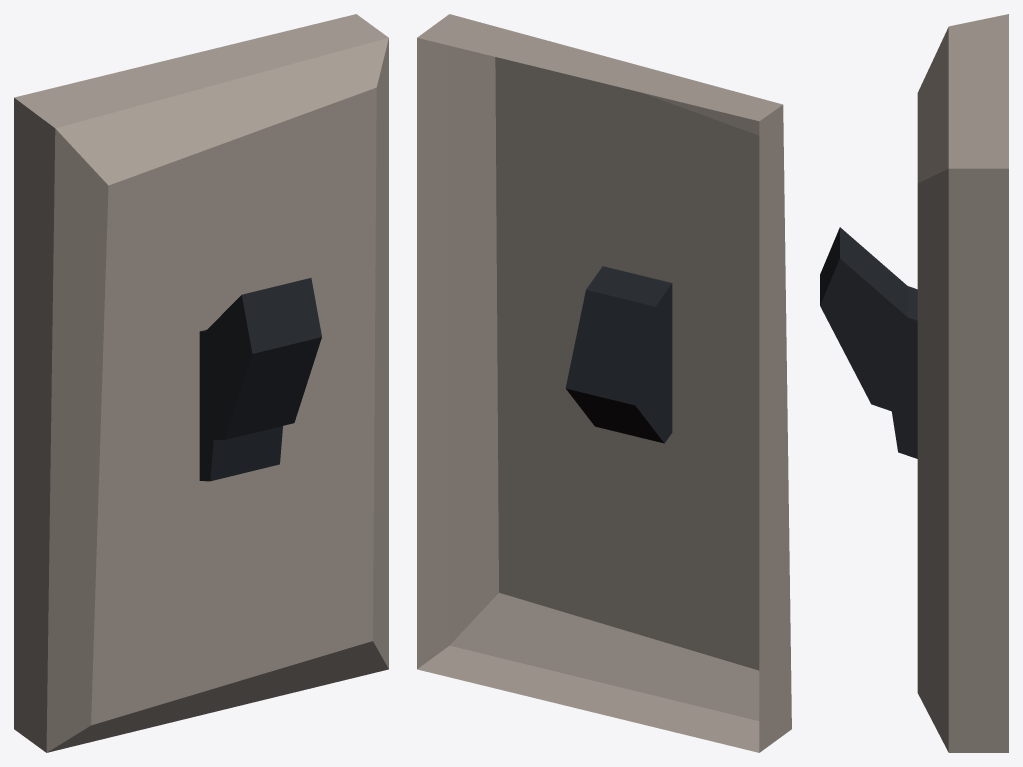
Rendered from SM_Switch_B.fbx.
The picture shows the model from 3 angles, left to right: view 1: azimuth 30°, elevation 25°; view 2: azimuth 150°, elevation 25°; view 3: azimuth 270°, elevation 25°; orthographic projection. The views are drawn at different scales.
Parts seen in each view (by area): view 1: SM_Switch_B, SM_Switch_B_Button; view 2: SM_Switch_B, SM_Switch_B_Button; view 3: SM_Switch_B, SM_Switch_B_Button.
Part boxes in pixels (left/top/right/bottom): SM_Switch_B: left=14, top=14, right=388, bottom=752; SM_Switch_B_Button: left=199, top=278, right=321, bottom=481; SM_Switch_B: left=417, top=14, right=791, bottom=752; SM_Switch_B_Button: left=565, top=266, right=672, bottom=443; SM_Switch_B: left=917, top=14, right=1008, bottom=752; SM_Switch_B_Button: left=820, top=227, right=917, bottom=458.
Size of the model in its own units: 12.7 by 22.38 by 6.56.
